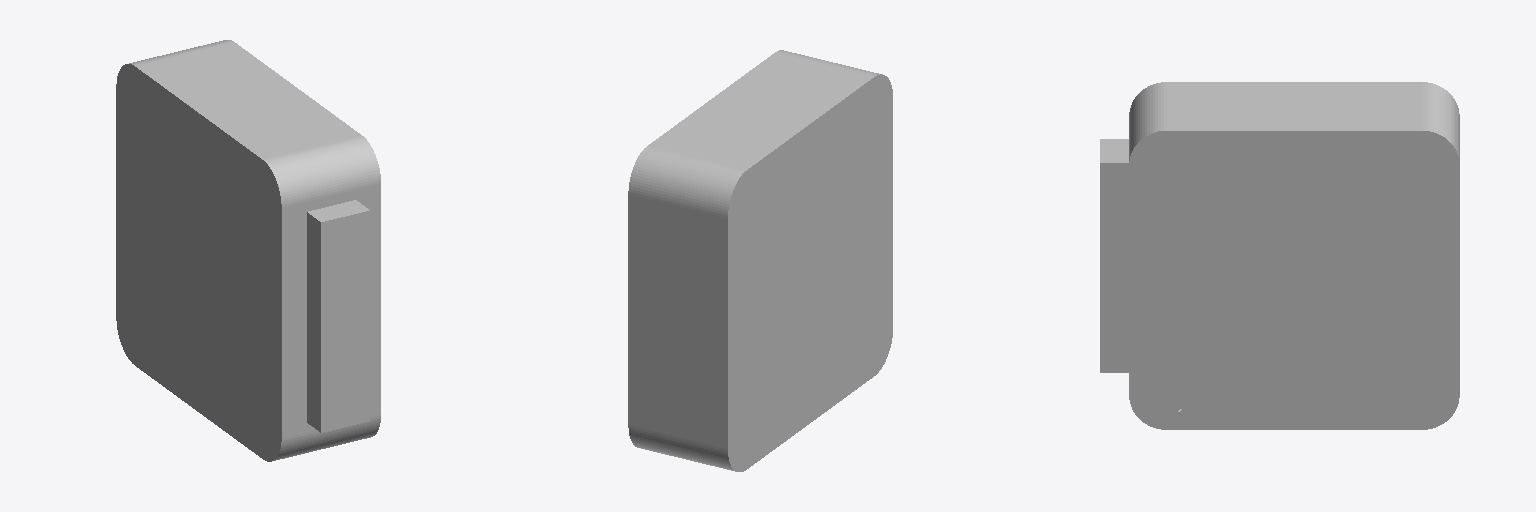
The model's file is walk_sign.obj.
The picture shows the model from 3 angles: view 1: azimuth 30°, elevation 25°; view 2: azimuth 150°, elevation 25°; view 3: azimuth 270°, elevation 25°; orthographic projection.
Parts seen in each view (by area): view 1: Cube, Cube.001; view 2: Cube; view 3: Cube, Cube.001.
Boxes of the visible parts, <box> form: Cube: <box>116,40,380,461</box>; Cube.001: <box>307,200,369,432</box>; Cube: <box>628,50,892,471</box>; Cube: <box>1129,82,1459,429</box>; Cube.001: <box>1100,139,1128,372</box>.
Size of the model in its own units: 0.696 by 2 by 2.17.